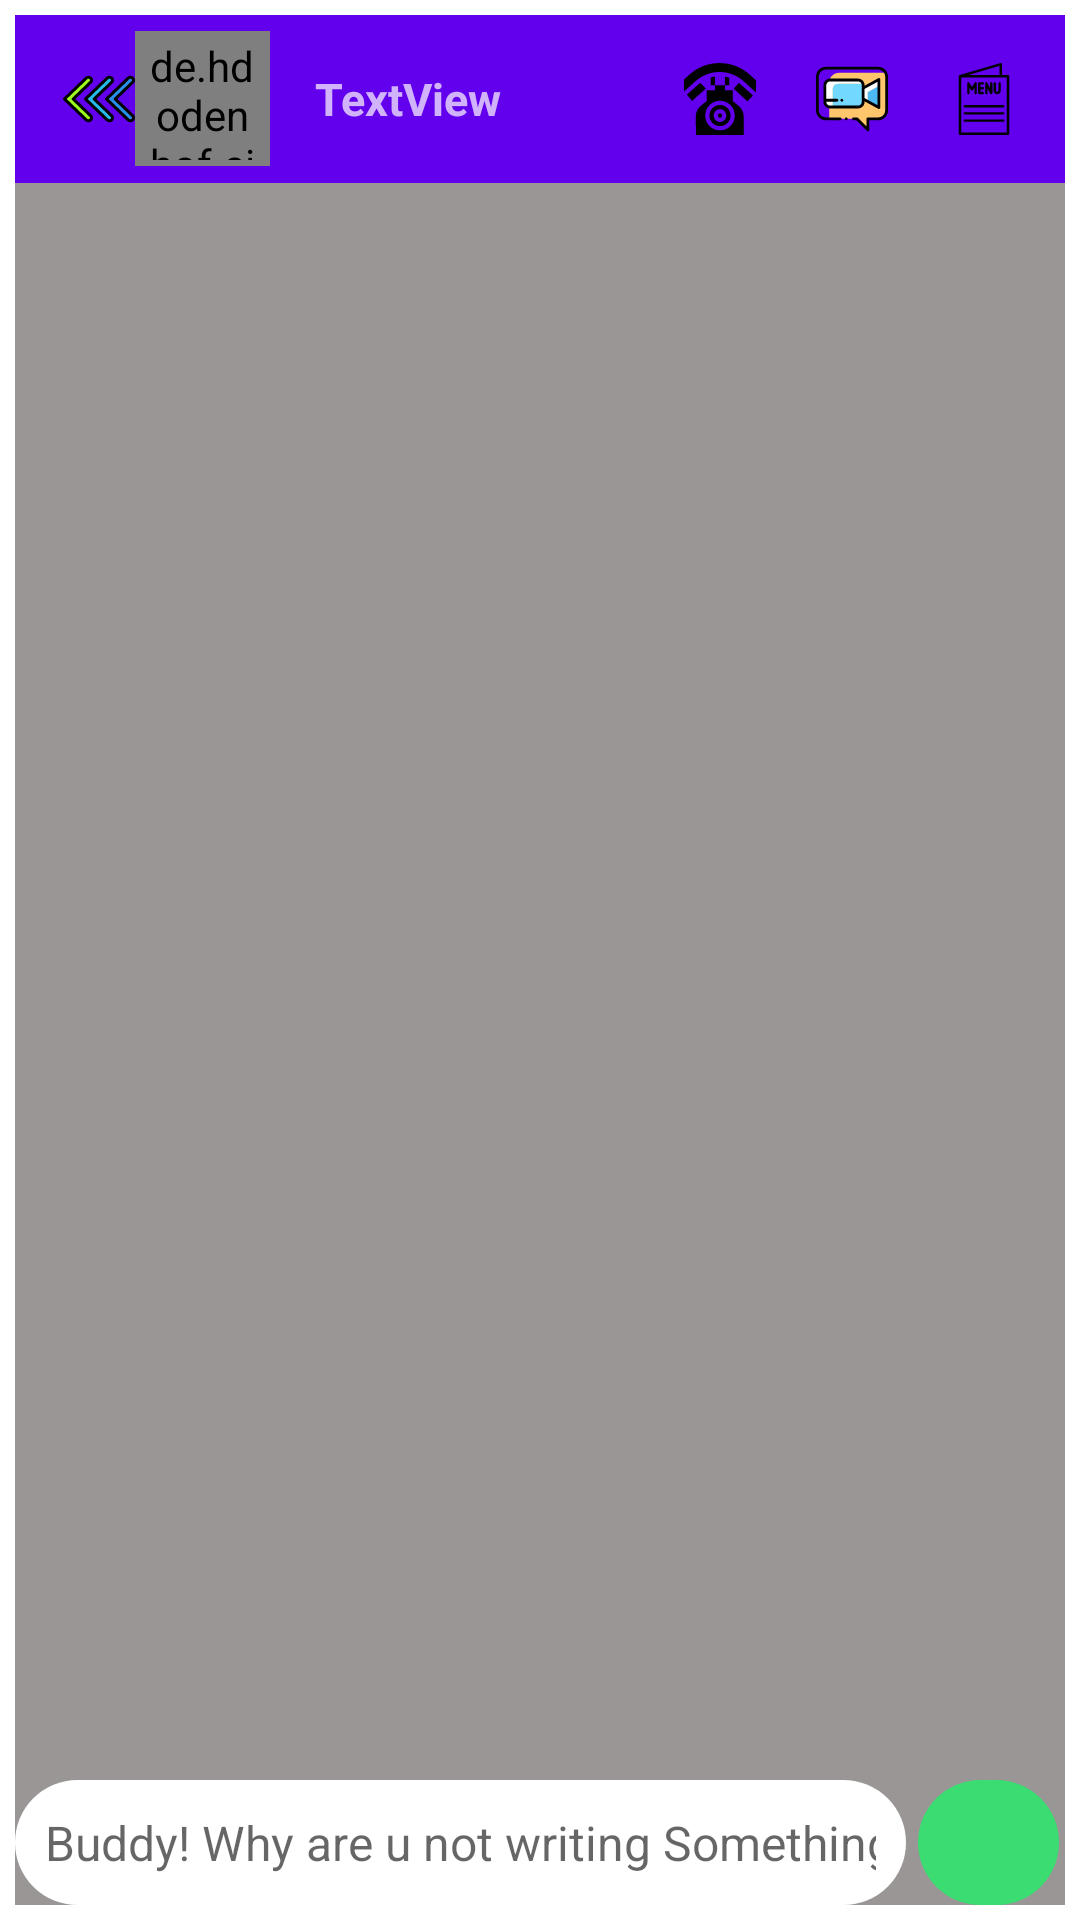

Where icons sit on this 1080px x 1920px app screen, as {"x1": x1, "y1": y1, "x2": x2, "y2": y2}:
left arrow: {"x1": 63, "y1": 75, "x2": 114, "y2": 123}
telephone: {"x1": 684, "y1": 63, "x2": 756, "y2": 135}
video call: {"x1": 816, "y1": 66, "x2": 888, "y2": 132}
